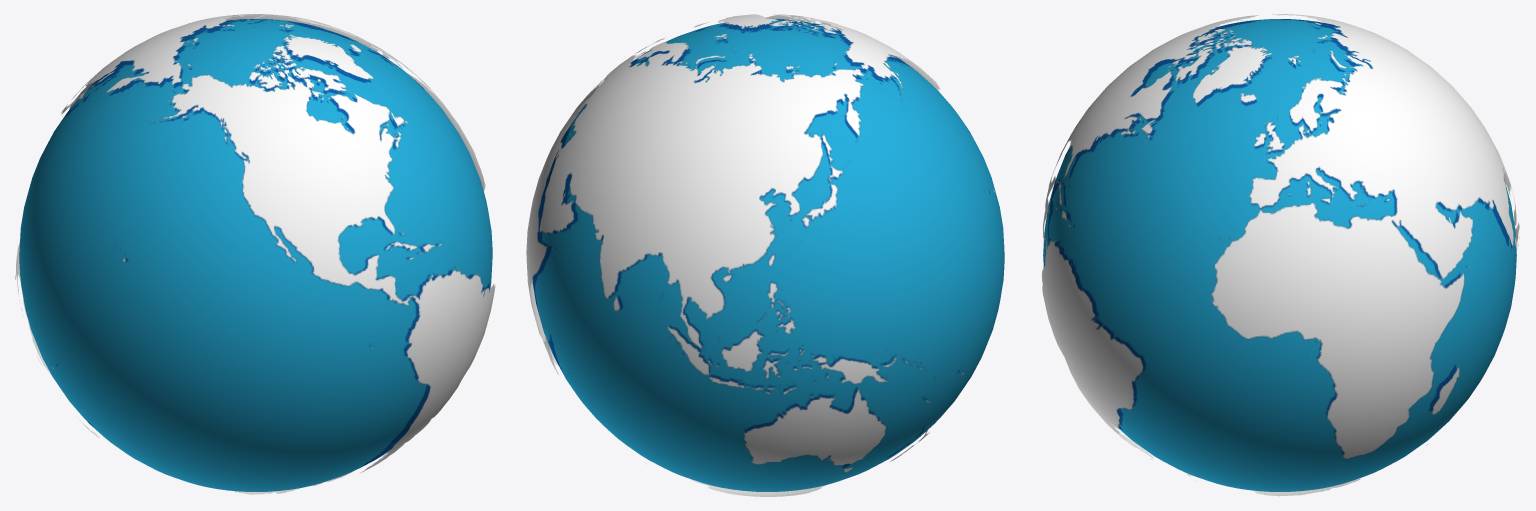
The model's file is whiteEarth.glb.
3 renders of one model, left to right at view 1: azimuth 30°, elevation 25°; view 2: azimuth 150°, elevation 25°; view 3: azimuth 270°, elevation 25°, orthographic.
Visible parts, largest first — view 1: Sphere, Sphere.002; view 2: Sphere, Sphere.002; view 3: Sphere, Sphere.002.
Boxes of the visible parts, x1,y1,x2,y2 form: Sphere: [19, 19, 492, 491]; Sphere.002: [15, 14, 495, 494]; Sphere: [532, 19, 1004, 491]; Sphere.002: [526, 14, 994, 496]; Sphere: [1043, 19, 1516, 491]; Sphere.002: [1042, 14, 1519, 496].
Bounding box in the file's own units: 1.12 × 1.12 × 1.12.
2 materials, 2 textured.
